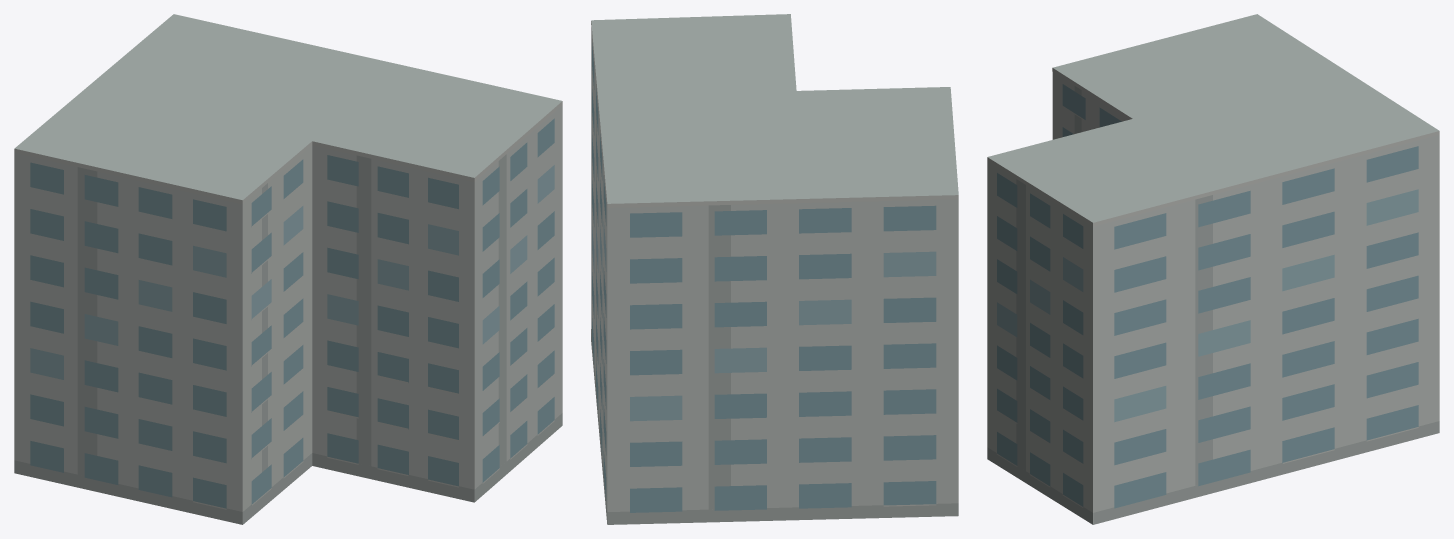
Rendered from survey-upis-32719689.glb.
The picture shows the model from 3 angles, left to right: view 1: azimuth 30°, elevation 25°; view 2: azimuth 150°, elevation 25°; view 3: azimuth 270°, elevation 25°; orthographic projection. The views are drawn at different scales.
Parts seen in each view (by area): view 1: survey-upis-32719689.tmp; view 2: survey-upis-32719689.tmp; view 3: survey-upis-32719689.tmp.
Part boxes in pixels (x1,y1,x2,y2): survey-upis-32719689.tmp: (14, 14, 562, 524); survey-upis-32719689.tmp: (591, 14, 958, 524); survey-upis-32719689.tmp: (987, 14, 1439, 524).
Bounding box in the file's own units: 28.33 × 19.1 × 25.94.
